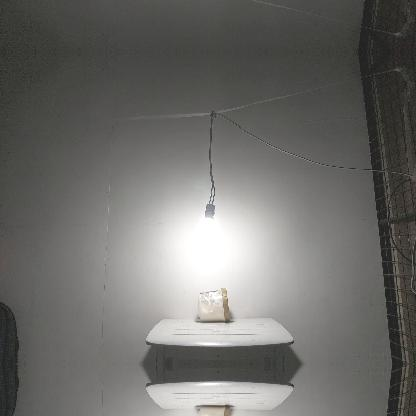Lady-s-Choice: (197, 288, 229, 322), (197, 405, 230, 415)
